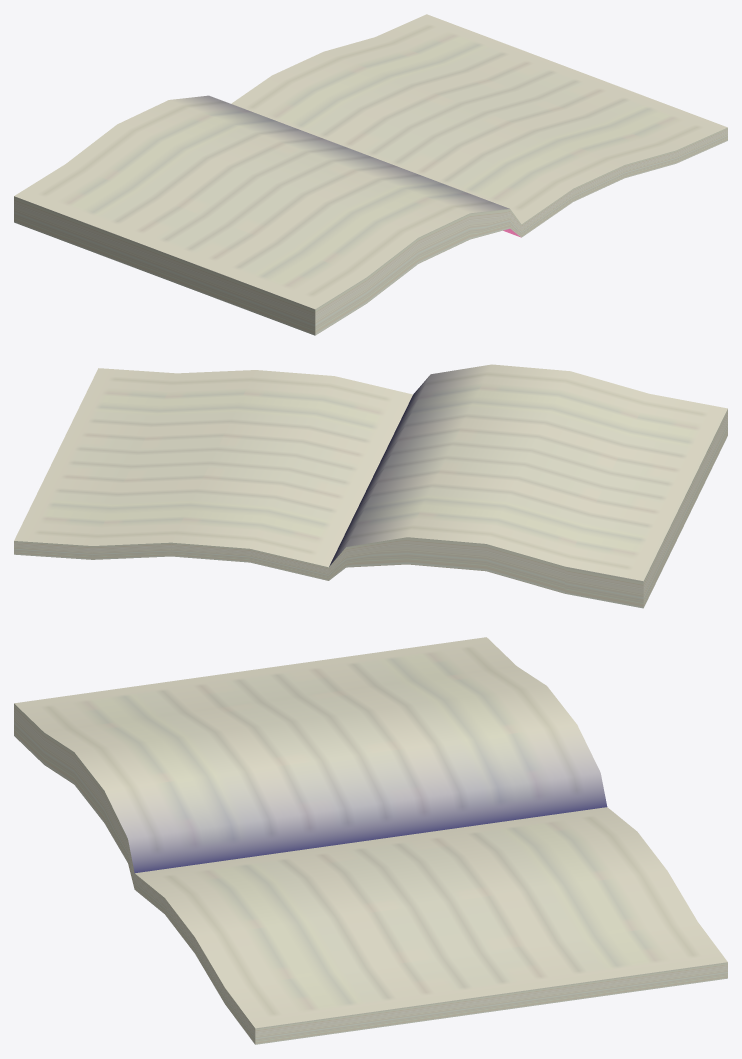
3 views of the same model, one above another, from view 1: azimuth 30°, elevation 25°; view 2: azimuth 150°, elevation 25°; view 3: azimuth 270°, elevation 25° (orthographic). The views are drawn at different scales.
Parts seen in each view (by area): view 1: Joint_0_Object_1, Joint_0_Object_2; view 2: Joint_0_Object_1, Joint_0_Object_2; view 3: Joint_0_Object_1, Joint_0_Object_2.
Boxes of the visible parts, x1,y1,x2,y2 form: Joint_0_Object_1: (14,14,727,309); Joint_0_Object_2: (14,127,727,335); Joint_0_Object_1: (14,364,727,581); Joint_0_Object_2: (14,409,727,608); Joint_0_Object_1: (14,637,727,1028); Joint_0_Object_2: (14,703,727,1044).
Bounding box in the file's own units: 546 × 42.18 × 440.
3 materials, 2 textured.
